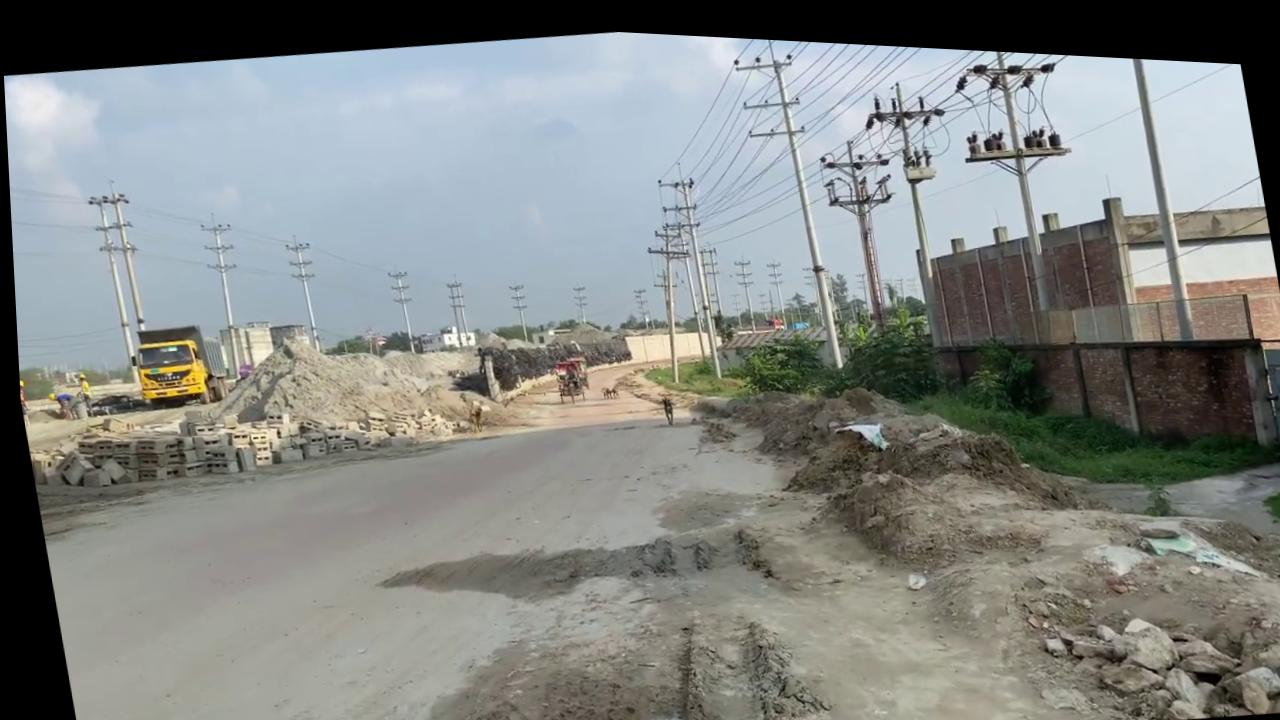Animal: (460, 396, 481, 428)
Car: (81, 388, 141, 418)
Dog: (656, 387, 673, 418), (596, 378, 616, 393)
Garbage: (17, 365, 481, 509)
Muddy road: (391, 261, 1280, 720)
Pole: (728, 30, 845, 368), (1122, 46, 1192, 328), (194, 207, 252, 378)
Tree: (122, 316, 229, 412), (407, 318, 473, 352), (58, 368, 79, 386)
